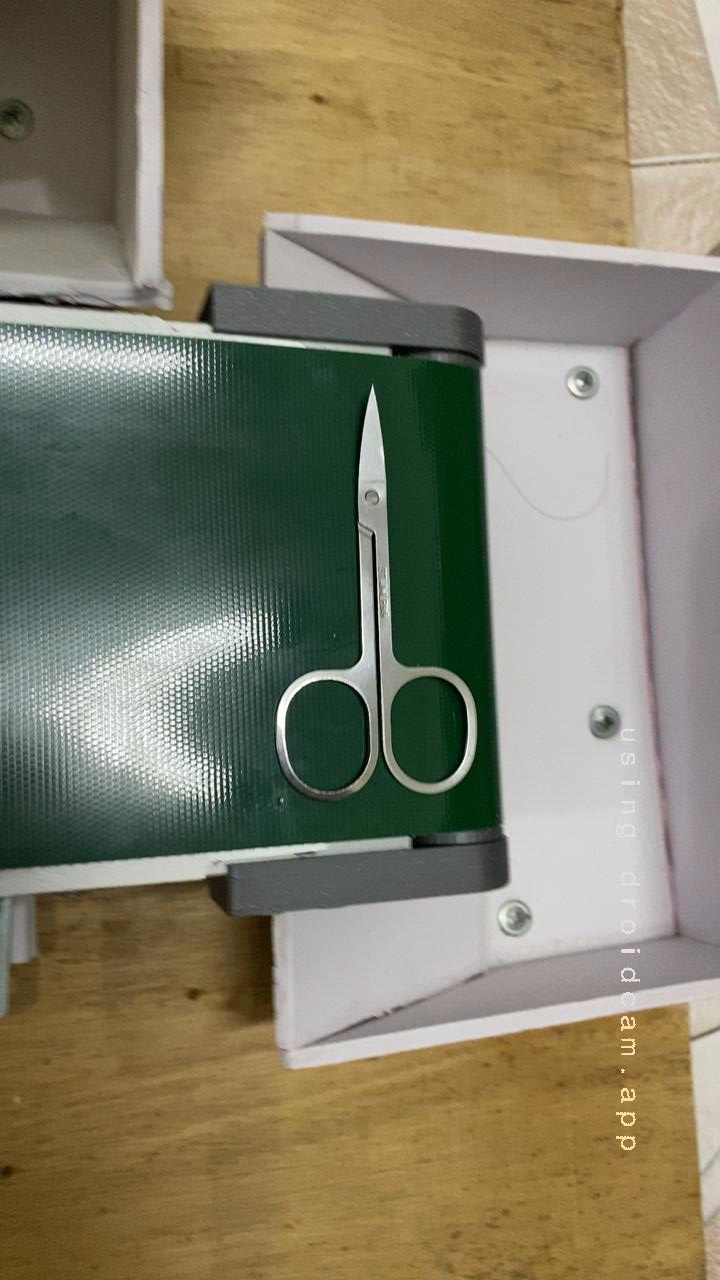scissor: (229, 384, 489, 816)
